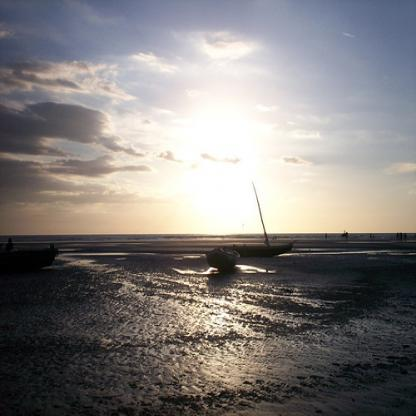boat: (231, 180, 298, 257), (0, 240, 59, 269), (203, 245, 238, 273)
